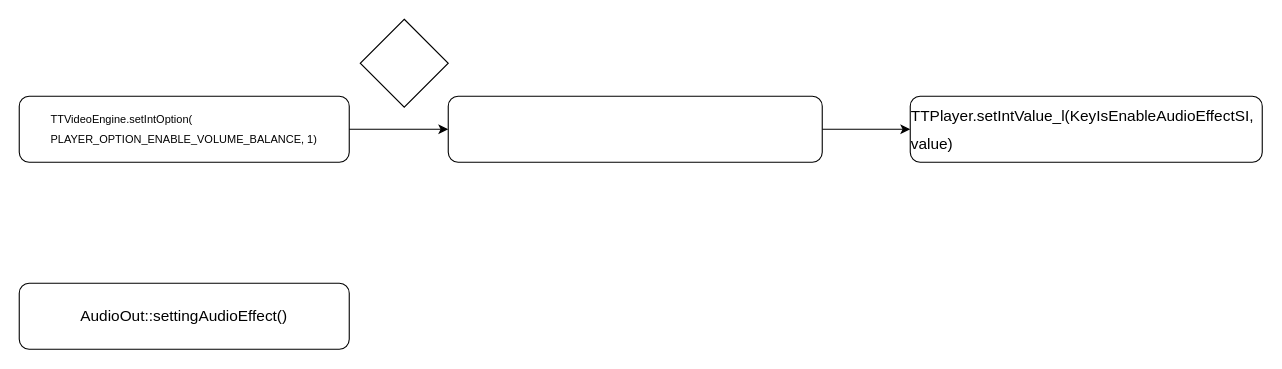
The diagram is 1282 pixels wide and 369 high, and some of its shapes have lost their labels. Each missing label, with the centre of its shape:
FeatureManager.hasPermission( FeatureManager.VOLUME_BALANCE): the point at 403,62
mMediaPlayer.setIntOption( MEDIA_PLAYER_OPTION_ENABLE_AUDIO_EFFECT, value): the point at 634,128
